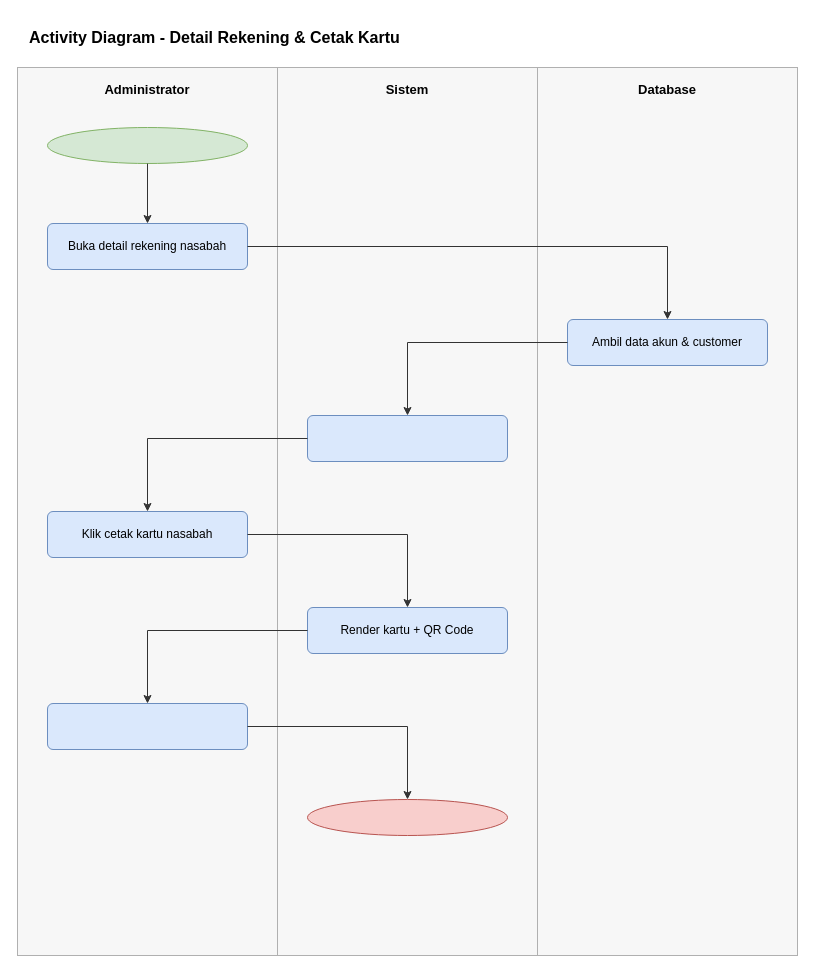
Some shapes in this 815 by 973 pixel diagram are drawn without their labels. Each missing label, with the box of its shape:
Cetak/simpan kartu: (46, 702, 248, 750)
Mulai: (46, 126, 248, 164)
Selesai: (306, 798, 508, 836)
Tampilkan saldo awal, saldo berjalan, minimum, status: (306, 414, 508, 462)
